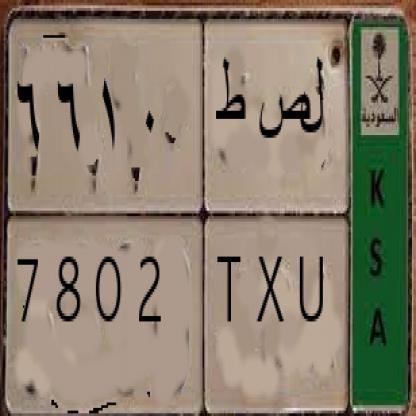english: (4, 197, 354, 416)
